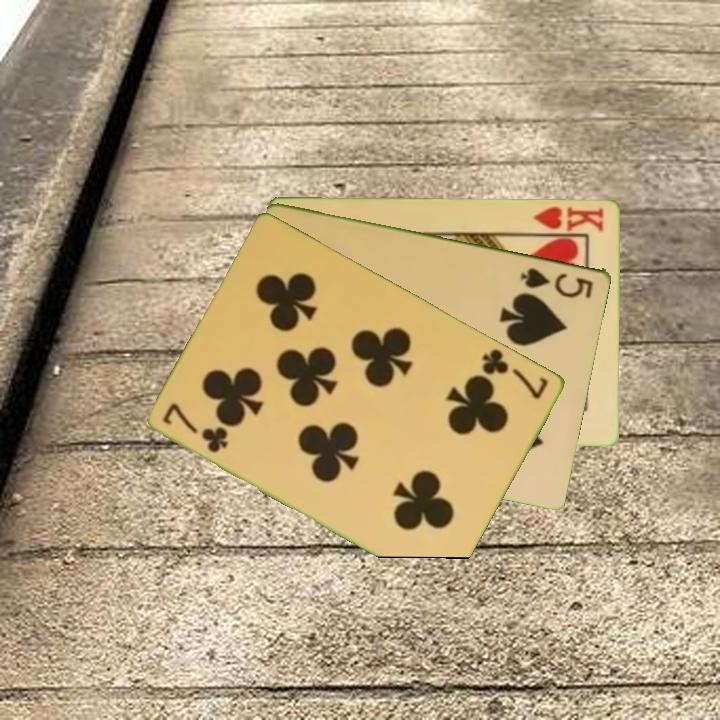5s: (517, 263, 597, 301)
7c: (479, 345, 552, 402), (159, 399, 232, 456)
Kh: (526, 202, 607, 236)
